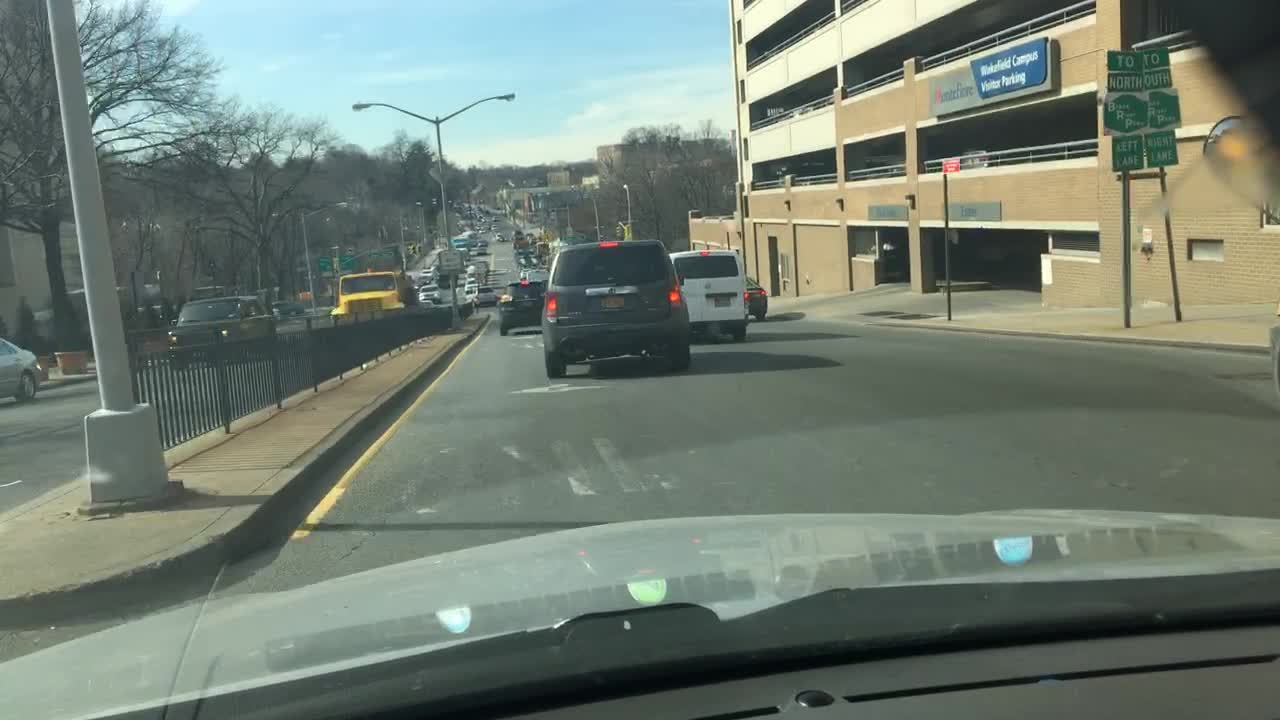car: (542, 240, 693, 375), (669, 252, 746, 339), (169, 295, 275, 351), (0, 336, 43, 400), (497, 280, 542, 336), (744, 276, 767, 318), (1269, 310, 1278, 391), (274, 298, 307, 315), (473, 286, 497, 306), (516, 250, 537, 271), (418, 283, 440, 303), (466, 258, 490, 273), (418, 267, 437, 282), (464, 274, 479, 291), (514, 237, 533, 249), (452, 237, 470, 249), (532, 279, 548, 292), (510, 229, 523, 242), (495, 230, 508, 242), (461, 231, 478, 240), (471, 247, 486, 256), (524, 231, 536, 240), (477, 238, 489, 247)
traffic light: (625, 220, 631, 238), (616, 221, 622, 236), (407, 242, 414, 254), (416, 242, 422, 254)
traffic sign: (1104, 49, 1145, 90), (1103, 94, 1145, 133), (1148, 90, 1181, 129), (1143, 49, 1173, 85), (1146, 130, 1176, 164), (1112, 136, 1143, 168), (439, 249, 463, 275), (338, 254, 355, 269), (371, 246, 392, 257), (316, 256, 331, 271)
truck: (329, 270, 402, 316)
